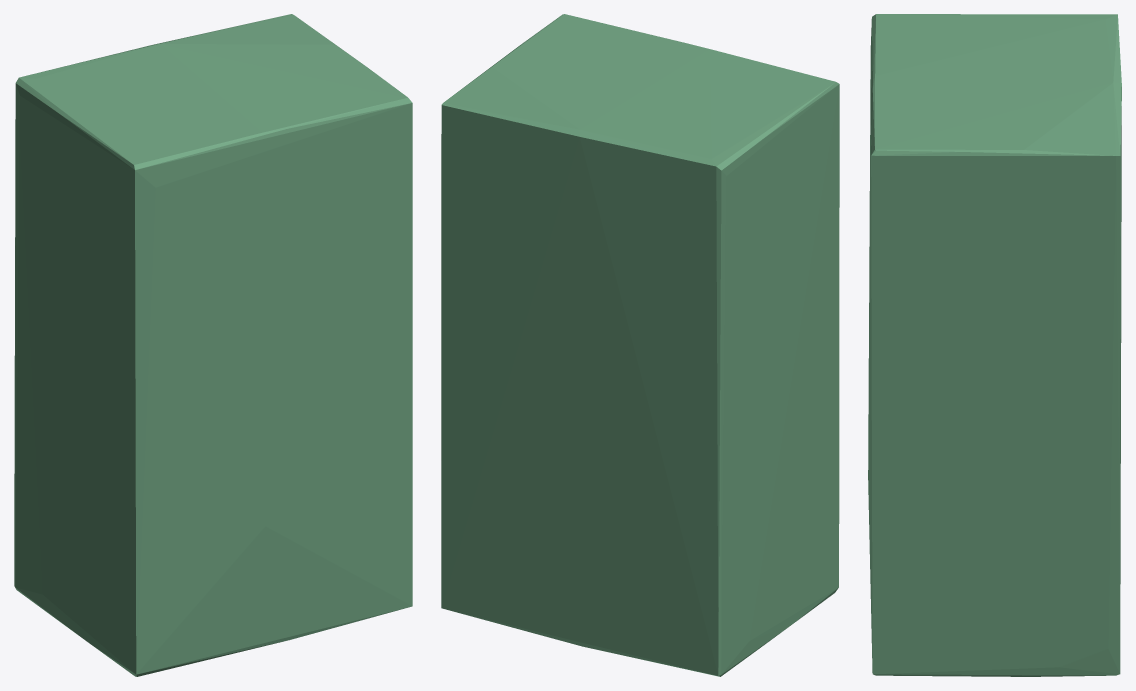
File: box_multiDepth_white_b06.glb
3 renders of one model, left to right at view 1: azimuth 30°, elevation 25°; view 2: azimuth 150°, elevation 25°; view 3: azimuth 270°, elevation 25°, orthographic. The views are drawn at different scales.
Visible parts, largest first — view 1: geometry_0; view 2: geometry_0; view 3: geometry_0.
Part boxes in pixels (box(x1,y1,x2,y2)): geometry_0: box(14, 14, 412, 676); geometry_0: box(441, 14, 839, 676); geometry_0: box(868, 14, 1121, 676).
Bounding box in the file's own units: 0.272 × 0.4798 × 0.2083.
